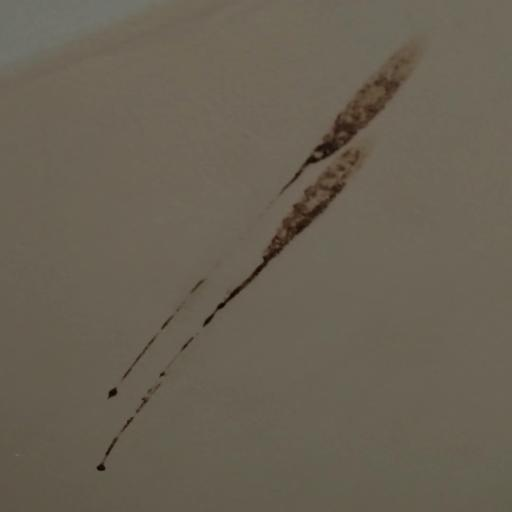stain: (84, 31, 437, 477)
